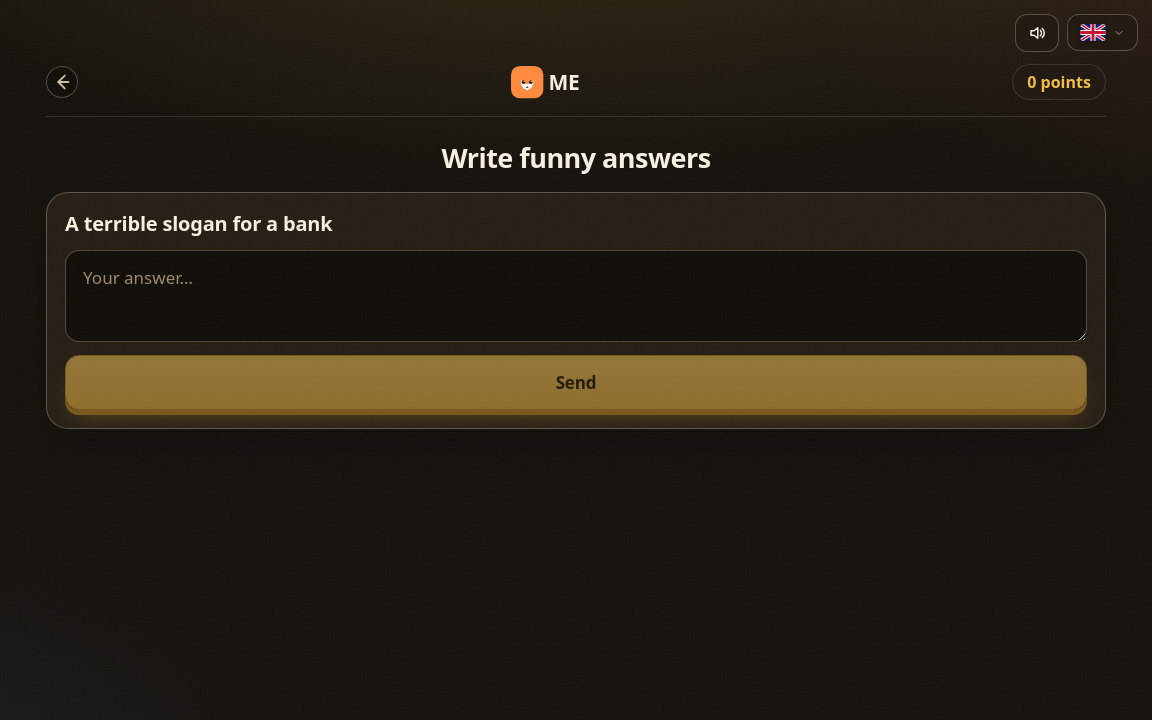
it: PlayerScreen quiplash answering › surfaces a rejected answer instead of pretending it sent
This screenshot has width=1152, height=720.
Type "Too late" into the text box. click: (576, 296)
box: [65, 250, 1087, 342]
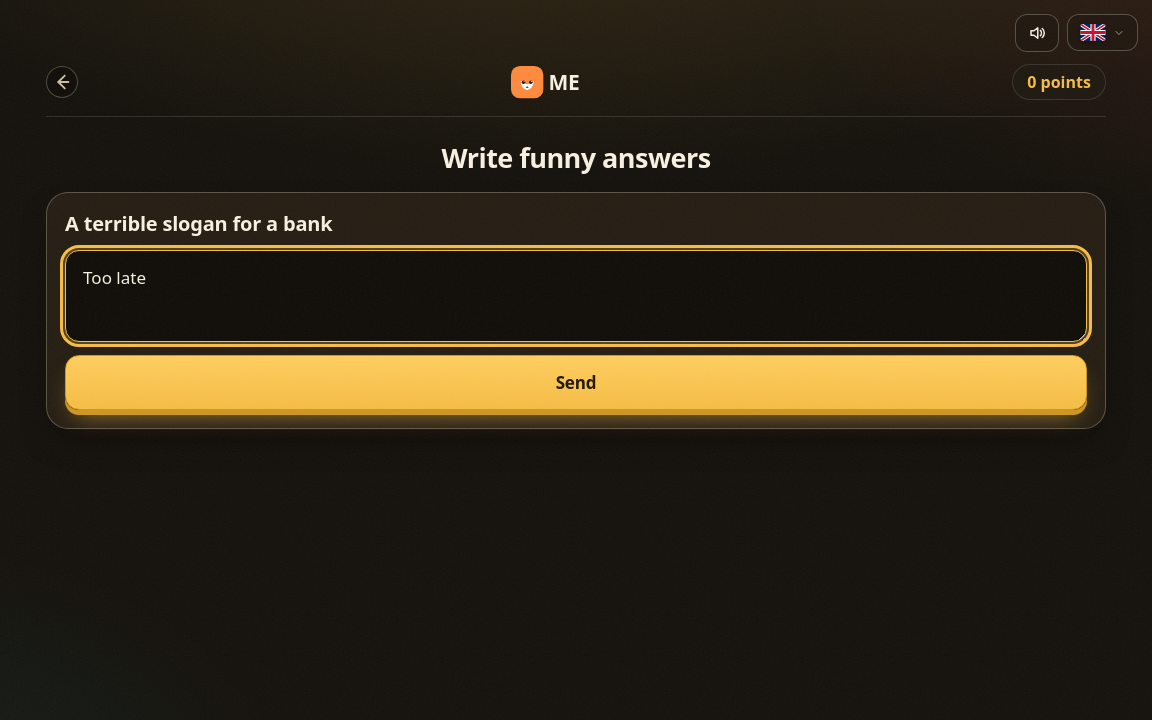
Click the button "Send". click: click(576, 382)
box: [65, 355, 1087, 410]
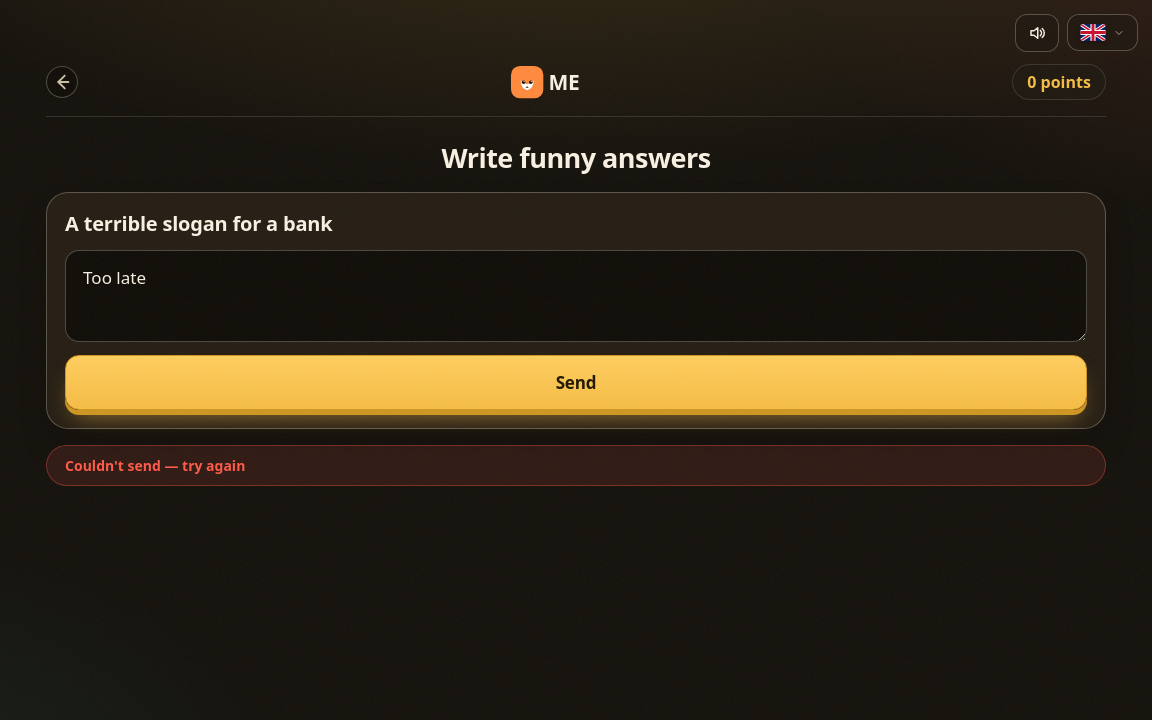
Now the message "Couldn't send — try again" is shown, box [46, 445, 1106, 486]
